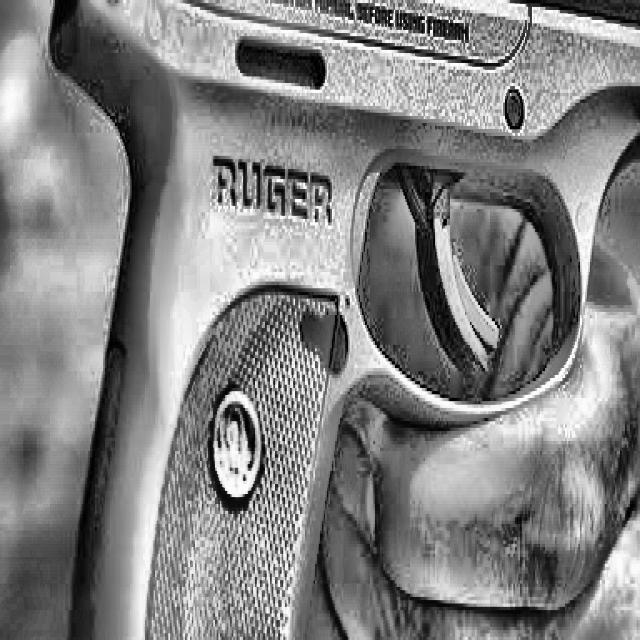Ruger: (46, 0, 640, 640)
